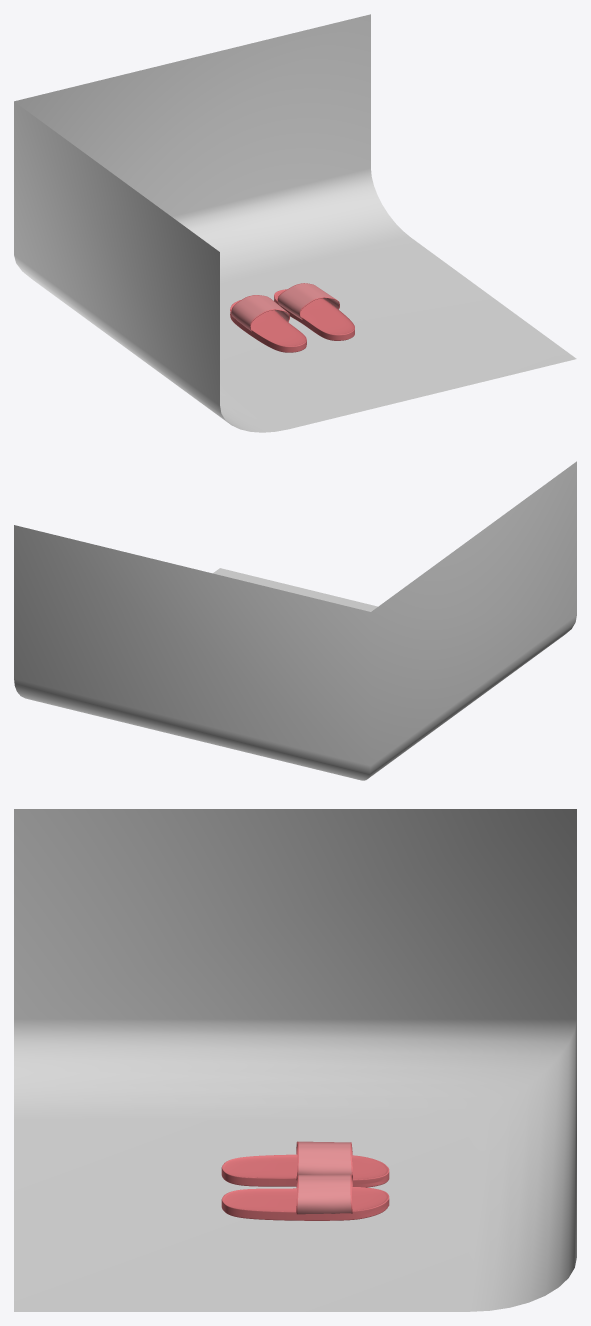
The model's file is uploads_files_2619974_flip+flop+slipers+(fbx).fbx.
The picture shows the model from 3 angles, top to bottom: view 1: azimuth 30°, elevation 25°; view 2: azimuth 150°, elevation 25°; view 3: azimuth 270°, elevation 25°; orthographic projection. The views are drawn at different scales.
Visible parts, largest first — view 1: Cube, Plane; view 2: Cube; view 3: Cube, Plane.
Boxes of the visible parts, bbox=[...] form: Cube: bbox=[14, 14, 576, 432]; Plane: bbox=[230, 283, 354, 352]; Cube: bbox=[14, 461, 576, 780]; Cube: bbox=[14, 809, 576, 1311]; Plane: bbox=[221, 1141, 389, 1220].
Size of the model in its own units: 1836 by 953 by 1836.
